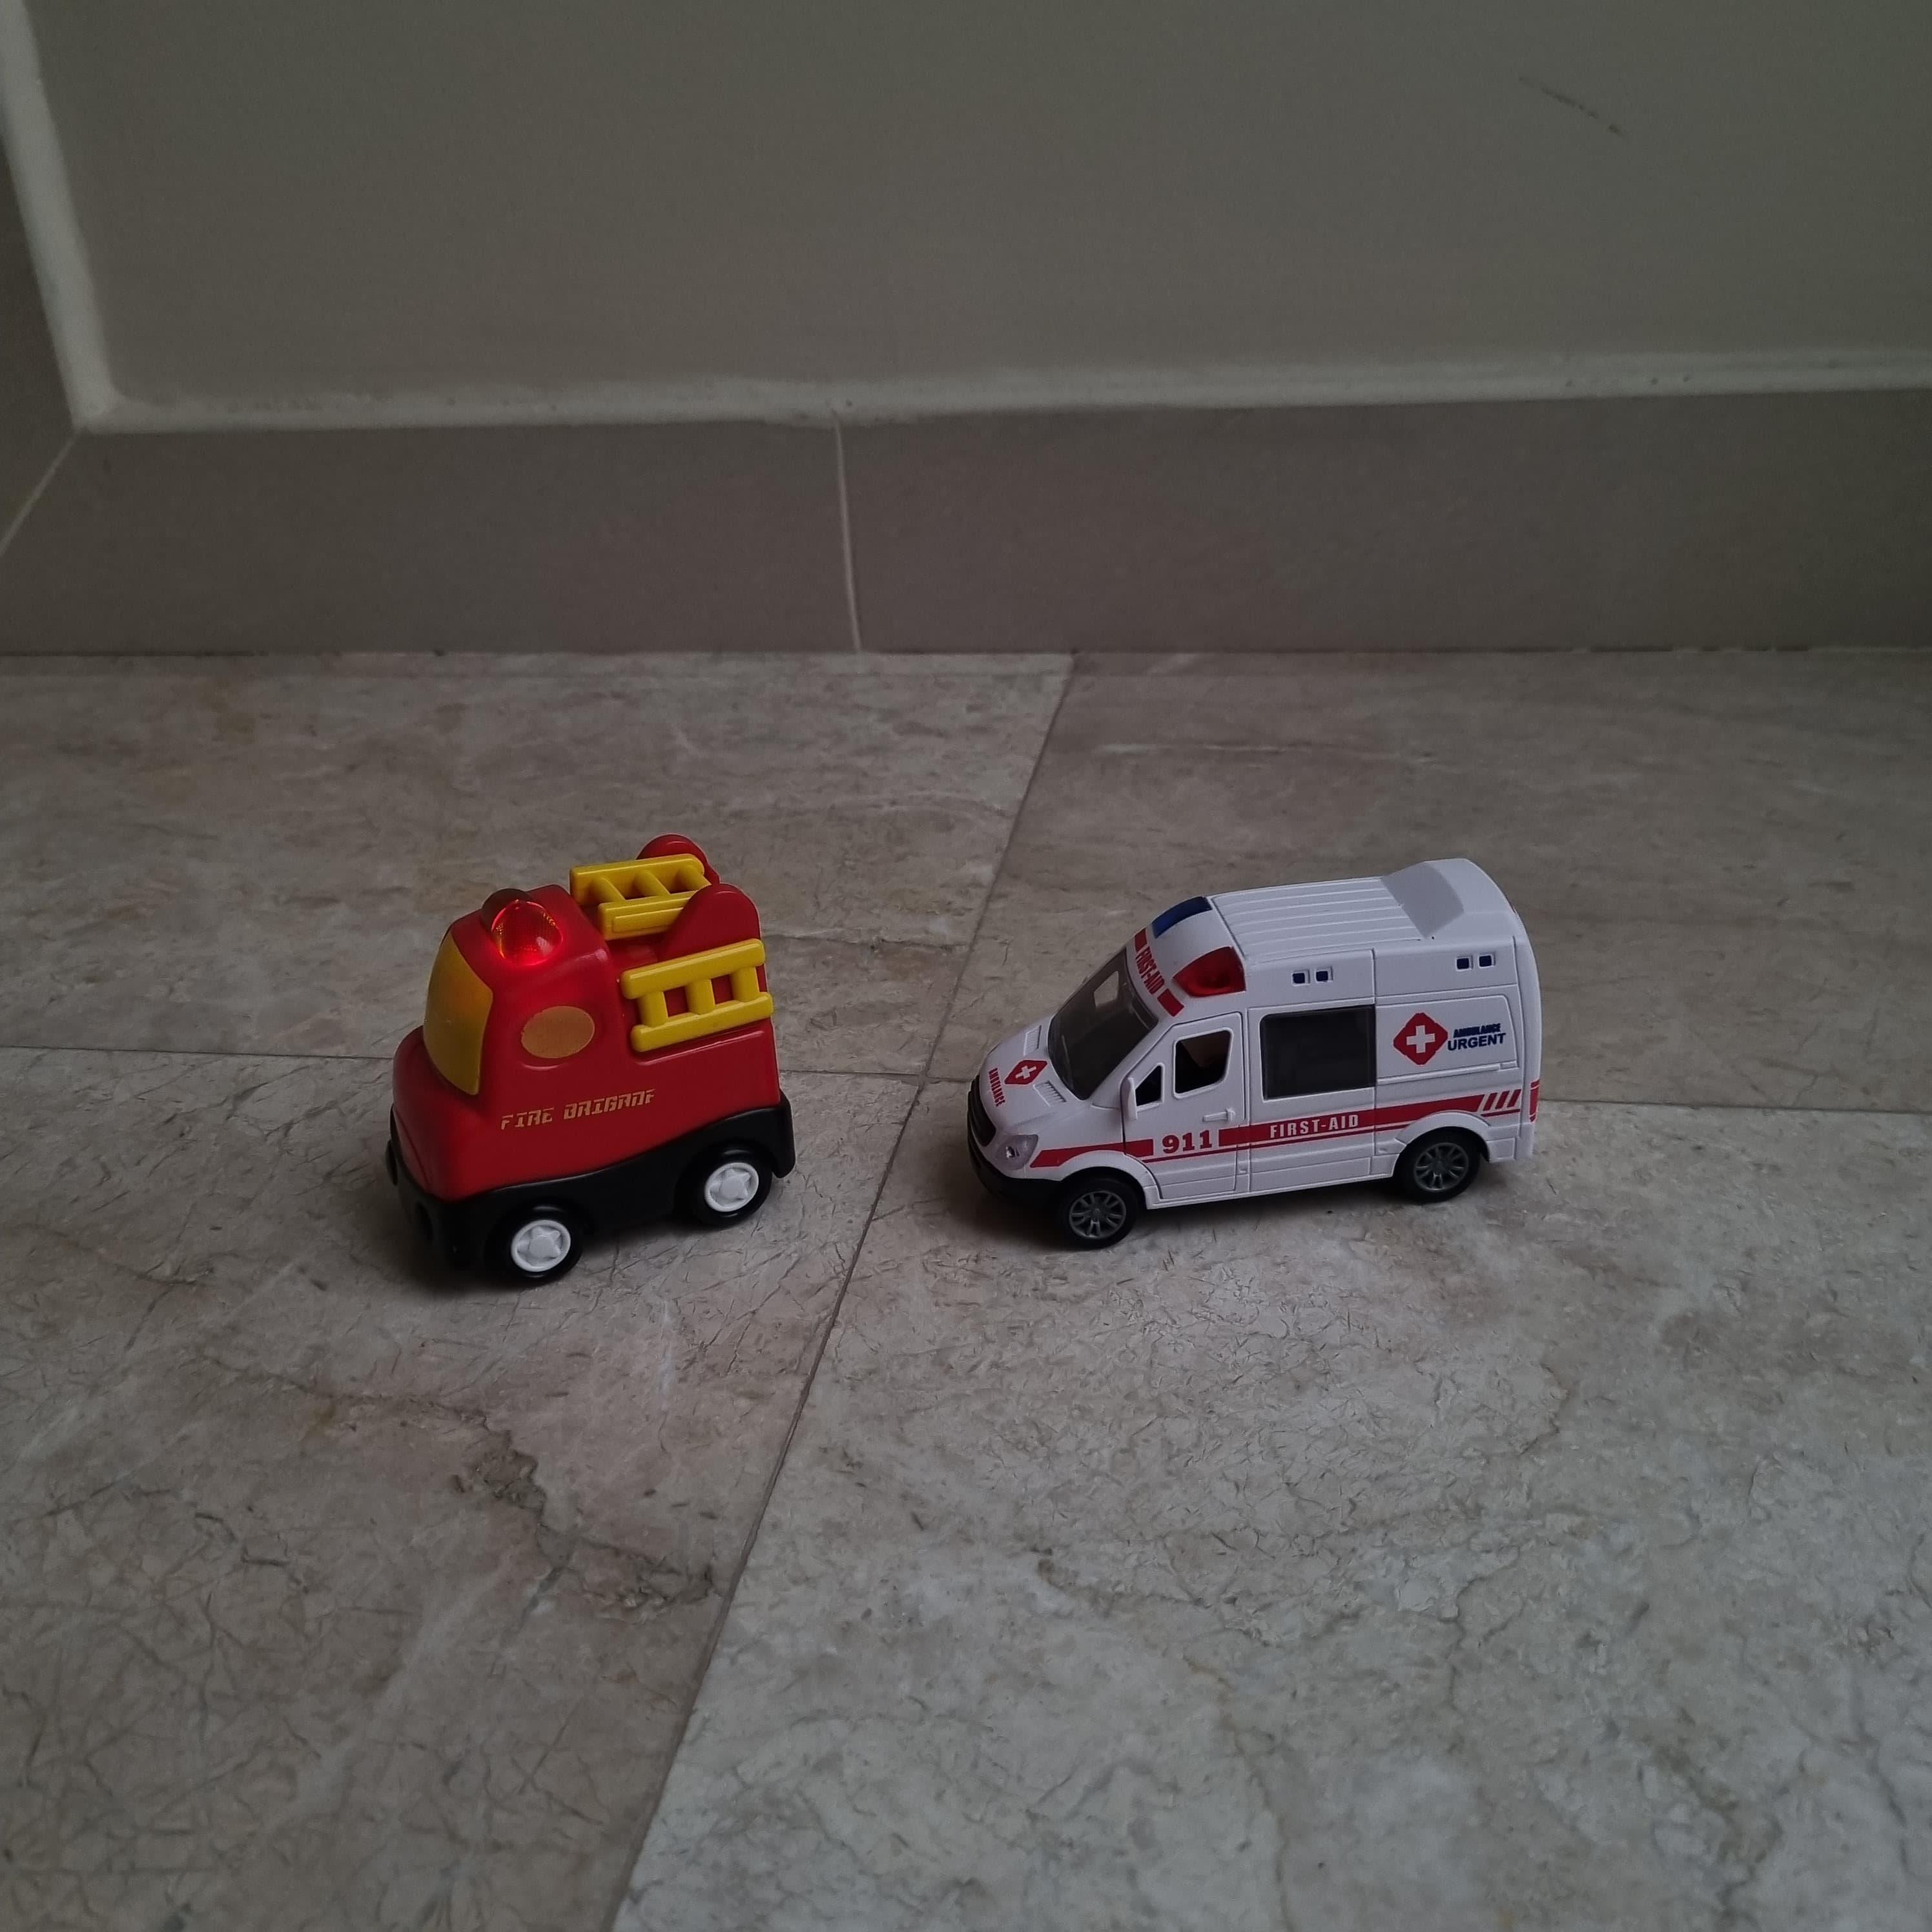ambulance_off: (964, 856, 1541, 1254)
firetruck_on: (380, 830, 798, 1290)
